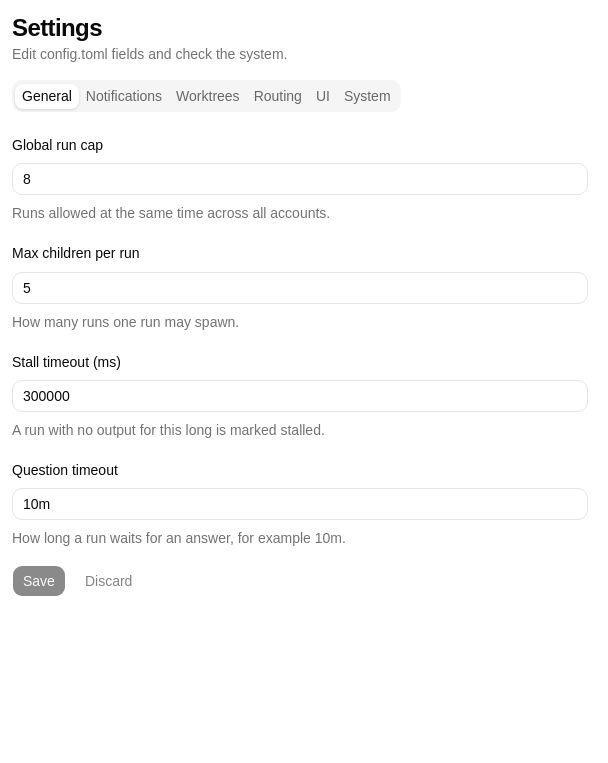
Test case: SettingsPage drafts and key file › rejects clearing a saved key file with an inline error and sends nothing
expect the number field labelled "Global run cap" is shown: met, box [12, 163, 588, 195]
Click the tab "Routing".
click(278, 96)  # box [247, 84, 309, 108]
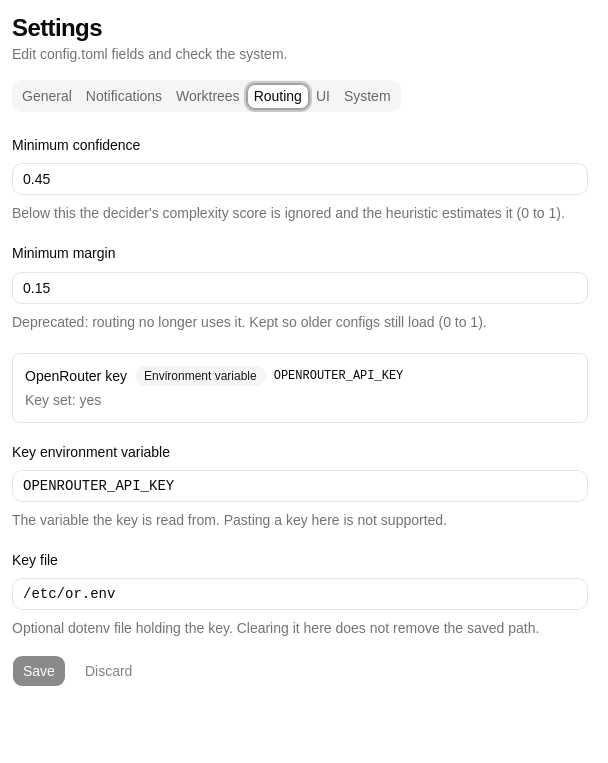
expect the field labelled "Key file" holds "/etc/or.env": met
Clear the field labelled "Key file" at (300, 594), box [12, 578, 588, 610]
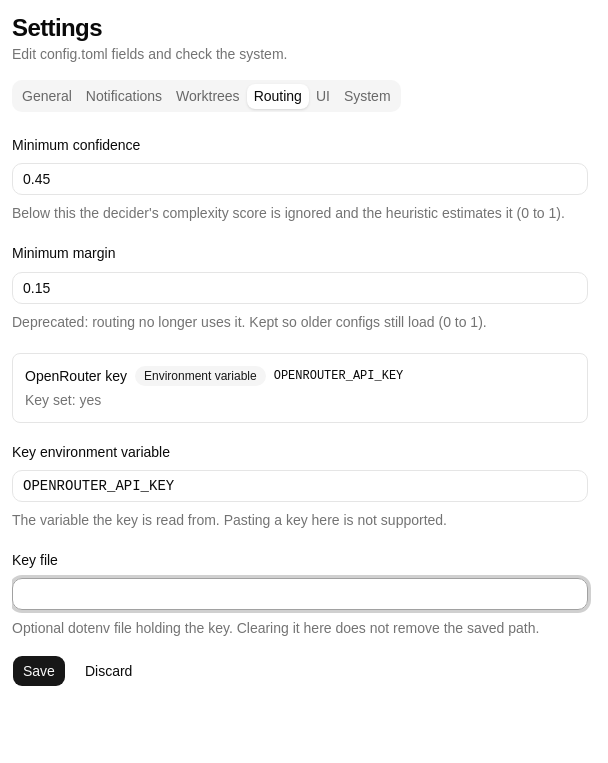
Click the button "Save".
click(39, 671)  # box [12, 655, 66, 687]
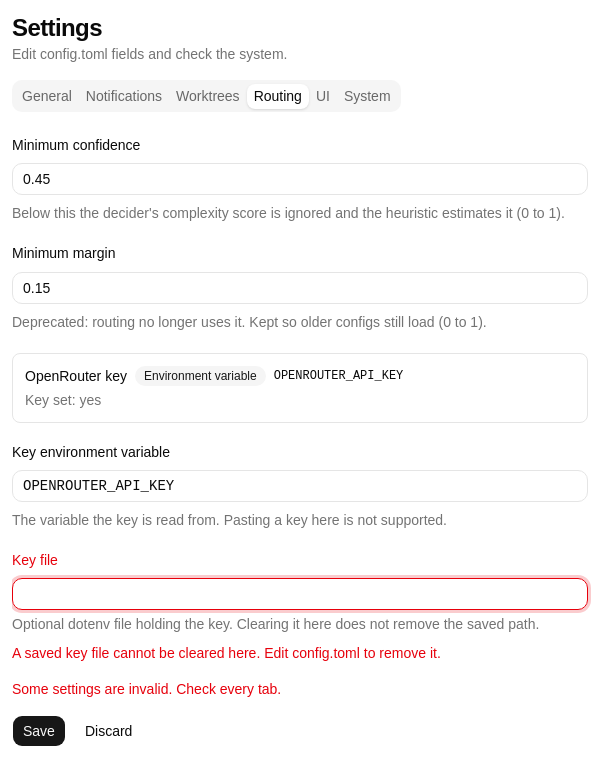
expect the text "A saved key file cannot be cleared here. Edit config.toml to remove it." is shown: met, box [12, 645, 441, 661]
